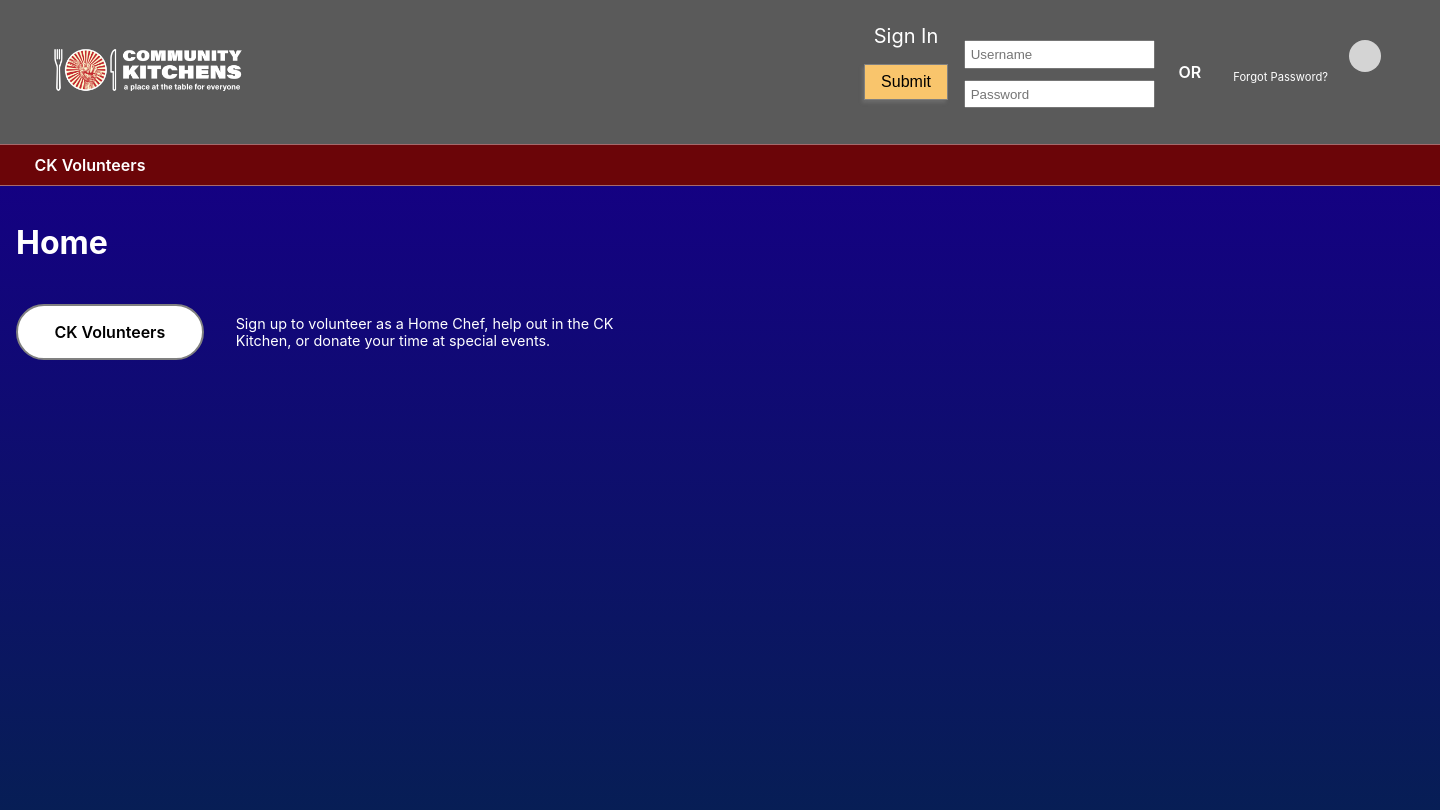
Test: volunteer does not exist already › navigate to volunteers home
Click the button "CK Volunteers": (110, 332) [16,304,204,360]
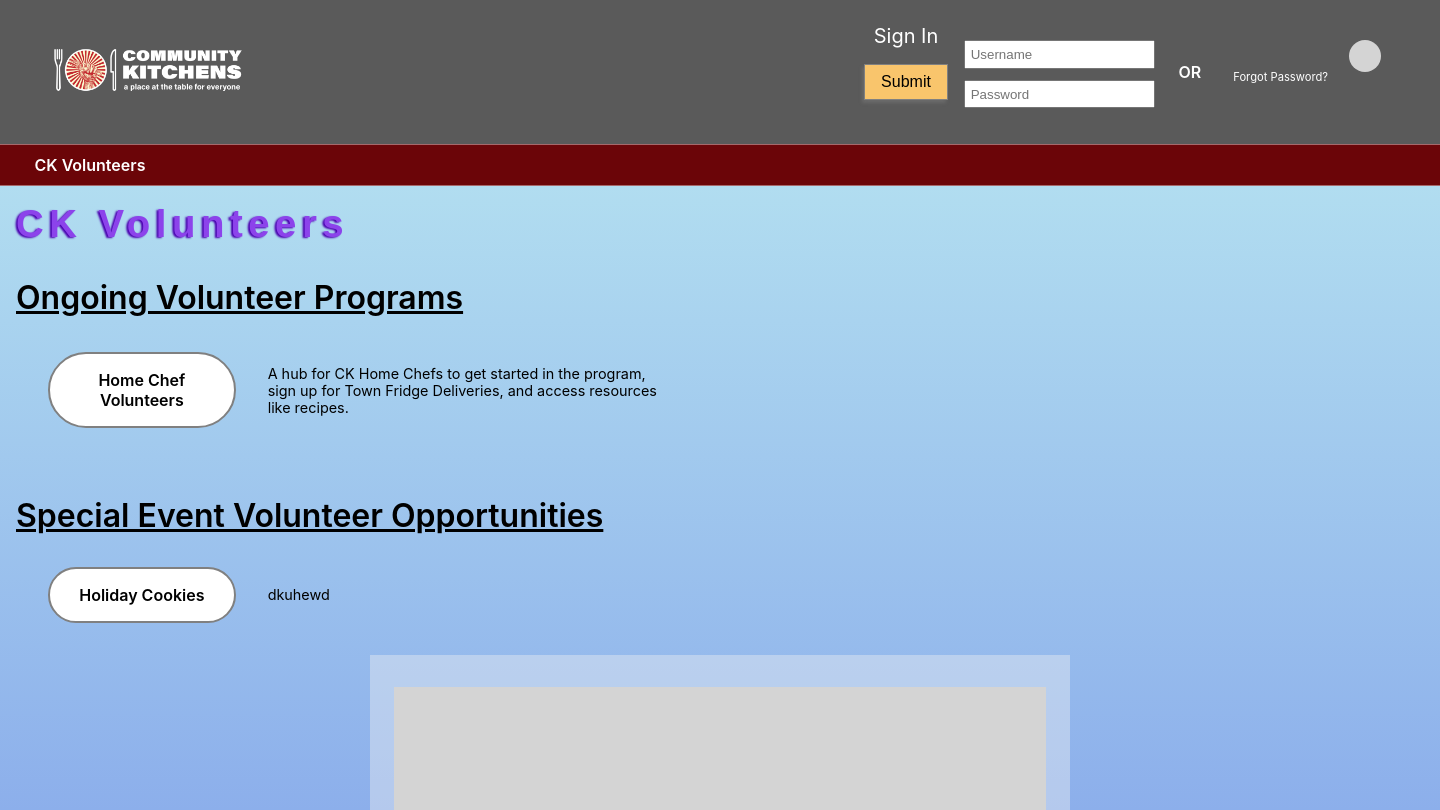
Expected: the text "Special Event Volunteer Opportunities" is shown, [16,496,603,535]
